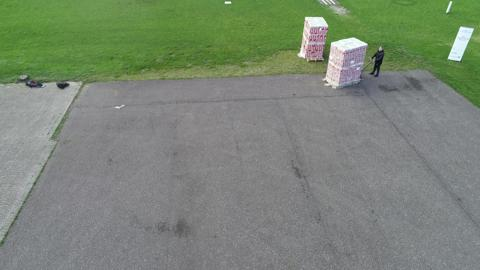RockwoolPallet: (302, 14, 327, 61)
